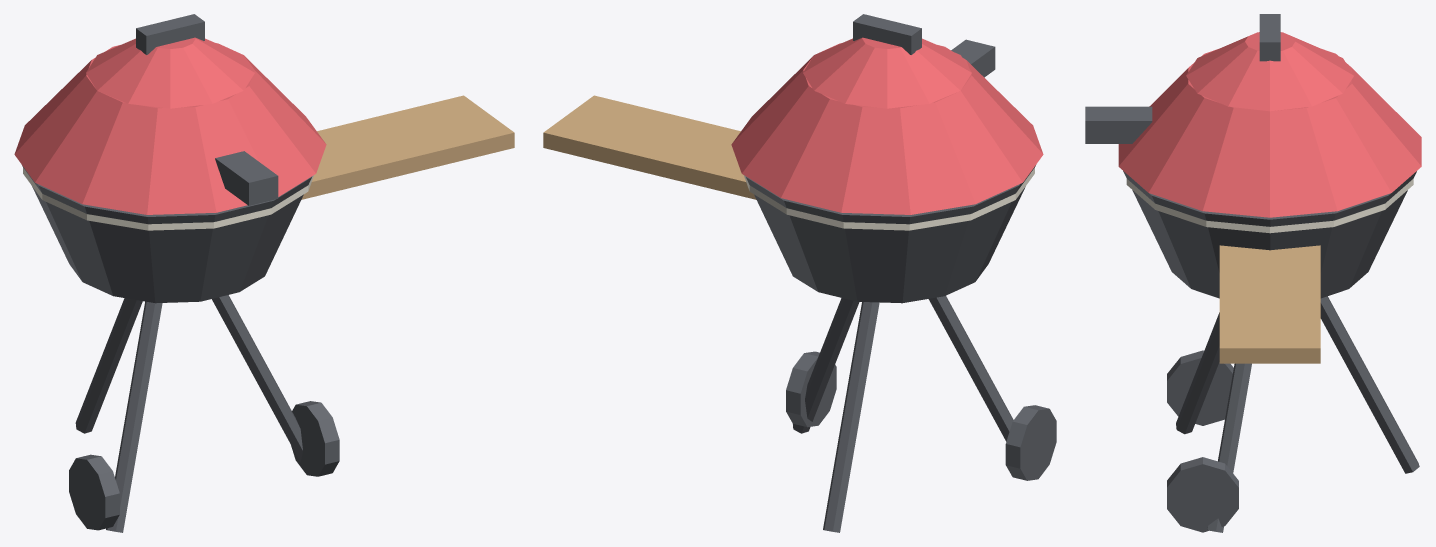
File: lawn-mowing-simulator-kit-barbecue-with-lid-2af11b0a.glb
3 views of the same model, side by side, from view 1: azimuth 30°, elevation 25°; view 2: azimuth 150°, elevation 25°; view 3: azimuth 270°, elevation 25° (orthographic).
Visible parts, largest first — view 1: barbecue-with-lid, lid/red, lid/dark; view 2: barbecue-with-lid, lid/red, lid/dark; view 3: barbecue-with-lid, lid/red, lid/dark.
Part boxes in pixels (x1,y1,x2,y2): barbecue-with-lid: (22, 95, 514, 532); lid/red: (14, 37, 326, 214); lid/dark: (136, 14, 278, 205); barbecue-with-lid: (543, 95, 1056, 532); lid/red: (731, 37, 1043, 214); lid/dark: (853, 14, 995, 77); barbecue-with-lid: (1123, 171, 1419, 532); lid/red: (1118, 32, 1421, 217); lid/dark: (1085, 14, 1280, 143).
Size of the model in its own units: 1.24 by 1.18 by 0.8007.
